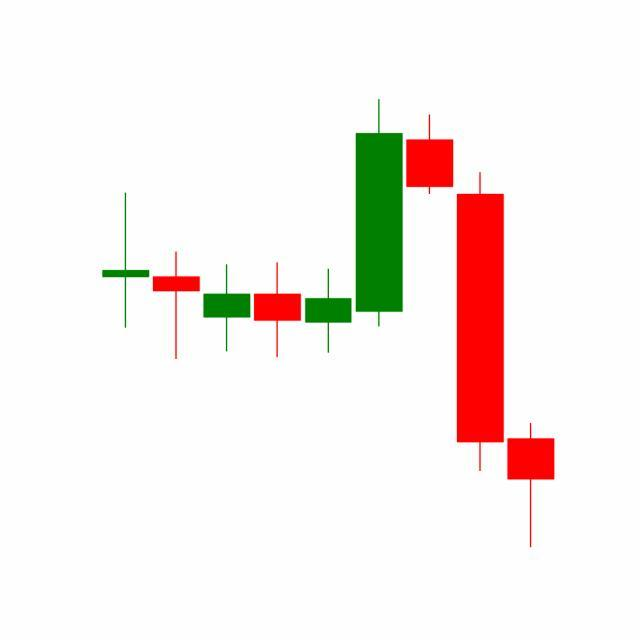Hikkake Pattern: (252, 100, 506, 477)
